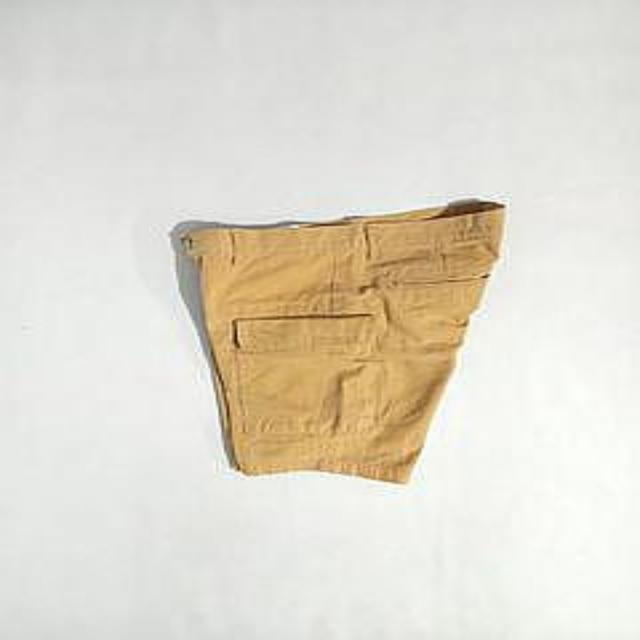SHORT: (160, 186, 538, 491)
